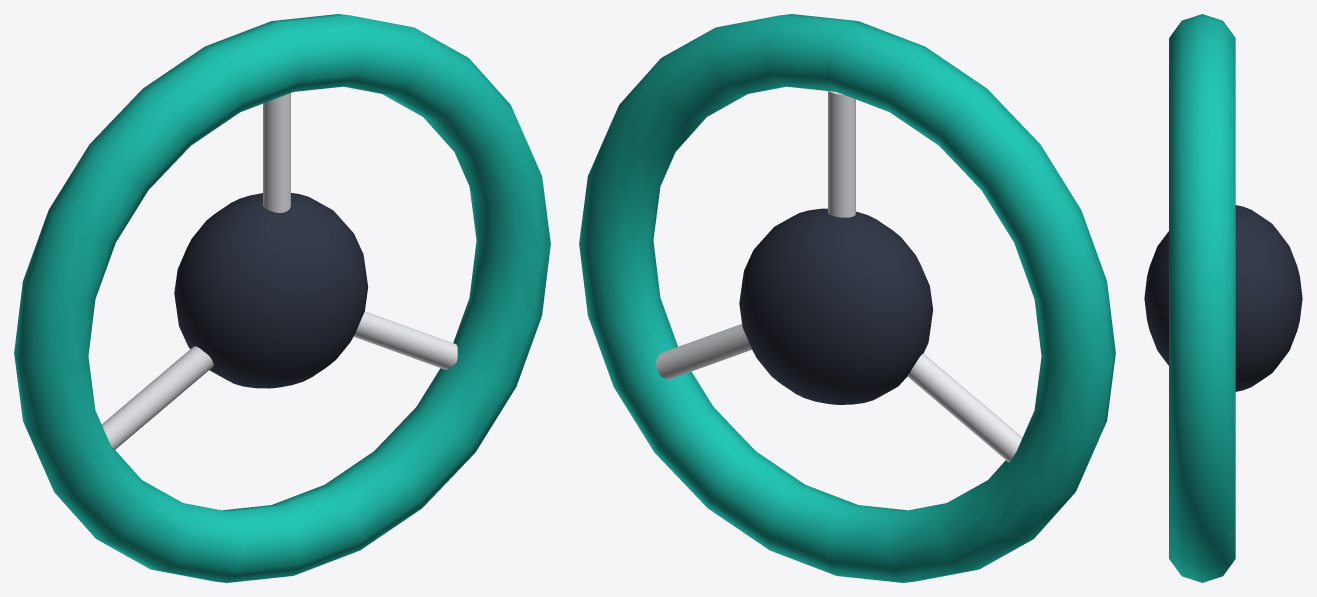
Rendered from pack_ring.glb.
3 renders of one model, left to right at view 1: azimuth 30°, elevation 25°; view 2: azimuth 150°, elevation 25°; view 3: azimuth 270°, elevation 25°, orthographic. The views are drawn at different scales.
Visible parts, largest first — view 1: Ring, Hub, Strut1, Strut0, Strut2; view 2: Ring, Hub, Strut1, Strut0, Strut2; view 3: Ring, Hub.
Part boxes in pixels (bbox=[...]): Ring: bbox=[14, 14, 550, 582]; Hub: bbox=[174, 193, 368, 388]; Strut1: bbox=[101, 346, 213, 449]; Strut0: bbox=[263, 93, 290, 212]; Strut2: bbox=[353, 311, 457, 369]; Ring: bbox=[579, 14, 1115, 582]; Hub: bbox=[739, 208, 933, 404]; Strut1: bbox=[907, 353, 1022, 462]; Strut0: bbox=[828, 91, 855, 217]; Strut2: bbox=[655, 324, 751, 378]; Ring: bbox=[1169, 14, 1235, 582]; Hub: bbox=[1144, 205, 1302, 391].
Bounding box in the file's own units: 1.08 × 1.08 × 0.3.
